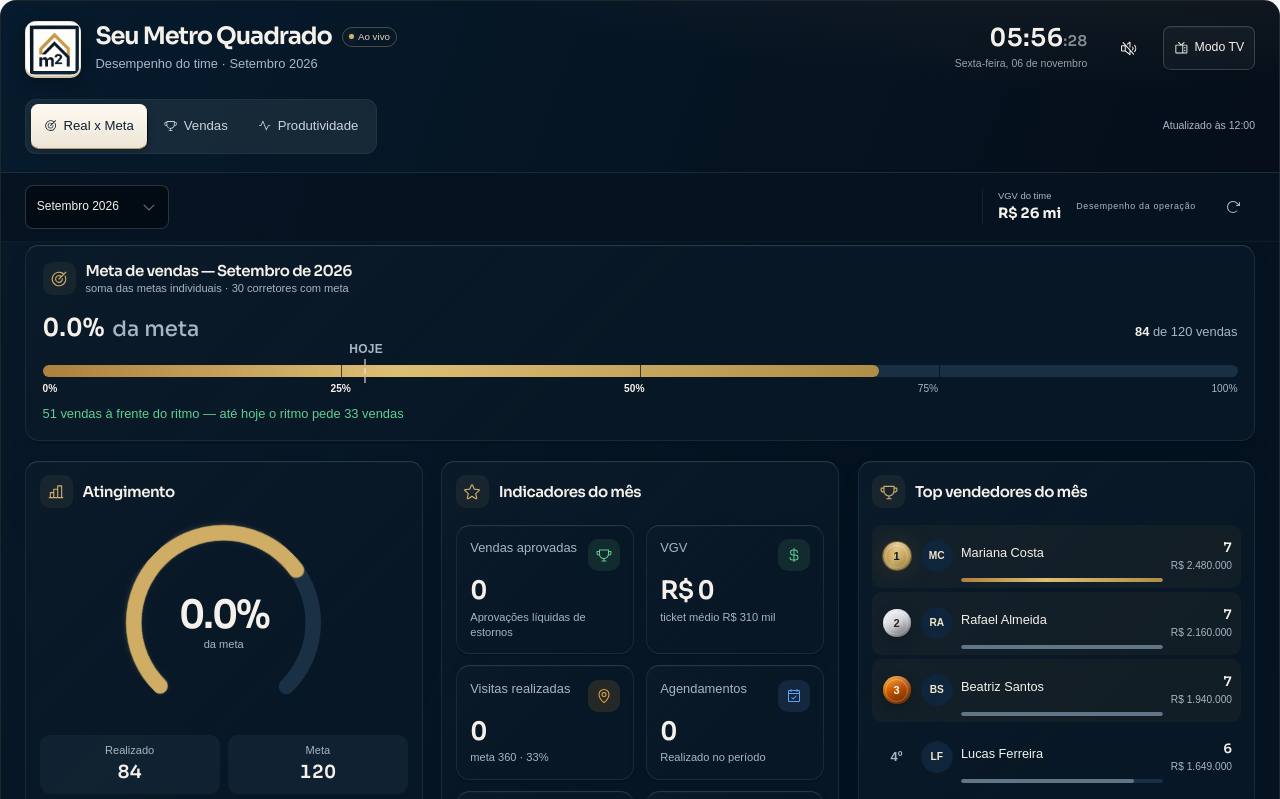
RankingExperience › abre com identidade, fallback de iniciais e análise comercial contextualizada
Expected: the tabs read "Real x Meta", "Vendas", "Produtividade", in this order, x1=30 y1=104 x2=147 y2=148; x1=151 y1=104 x2=241 y2=148; x1=245 y1=104 x2=372 y2=148
Click the button "Mariana Costa". click: (1002, 552)
box: x1=961 y1=530 x2=1044 y2=574
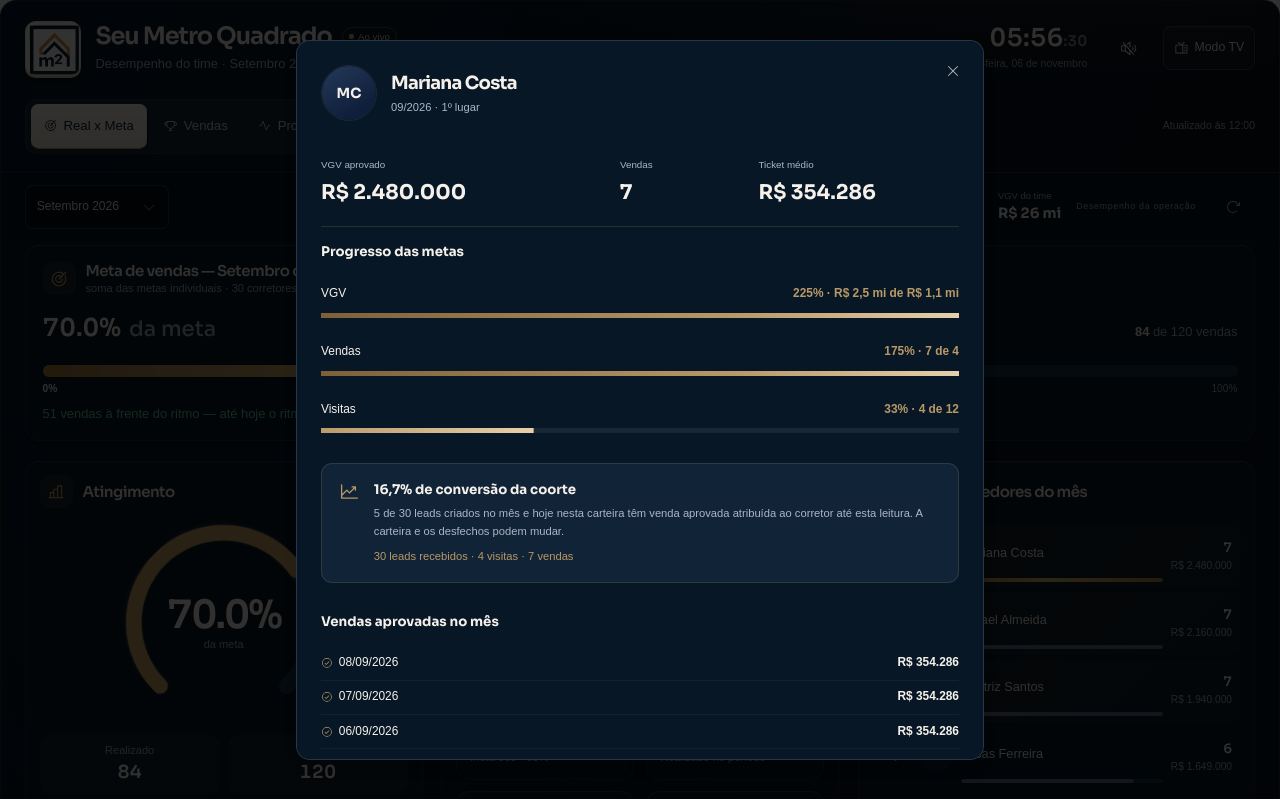
Expected: the text "VGV aprovado" is shown, x1=321 y1=159 x2=385 y2=170
Expected: the heading "16,7% de conversão da coorte" is shown, x1=374 y1=481 x2=576 y2=498
Expected: the heading "Progresso das metas" is shown, x1=321 y1=243 x2=464 y2=260
